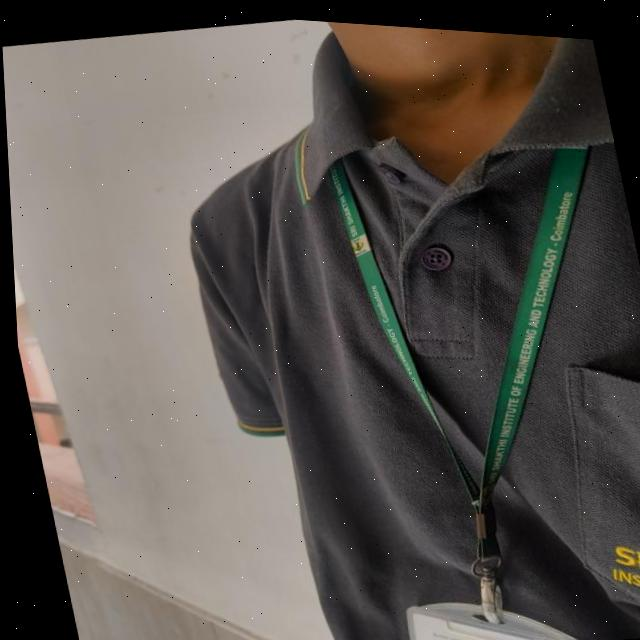id_card: (289, 101, 640, 640)
